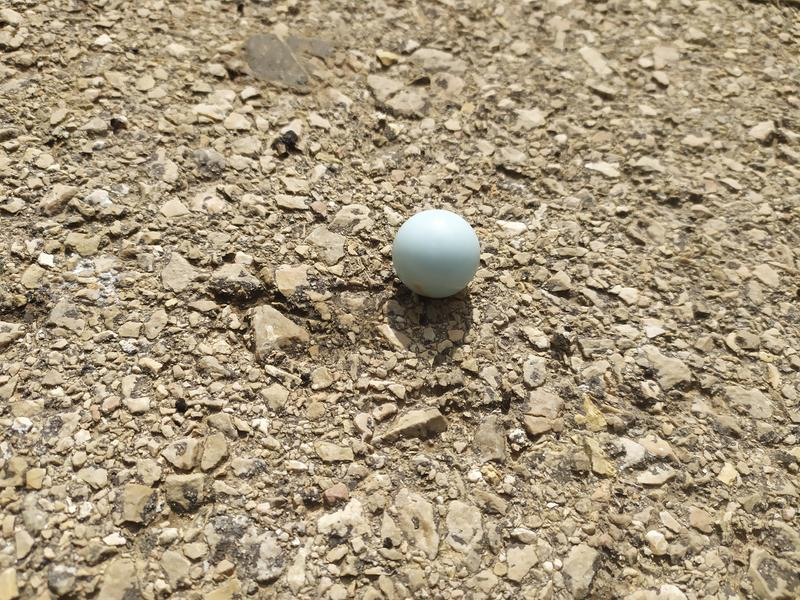Warning: (390, 207, 483, 301)
